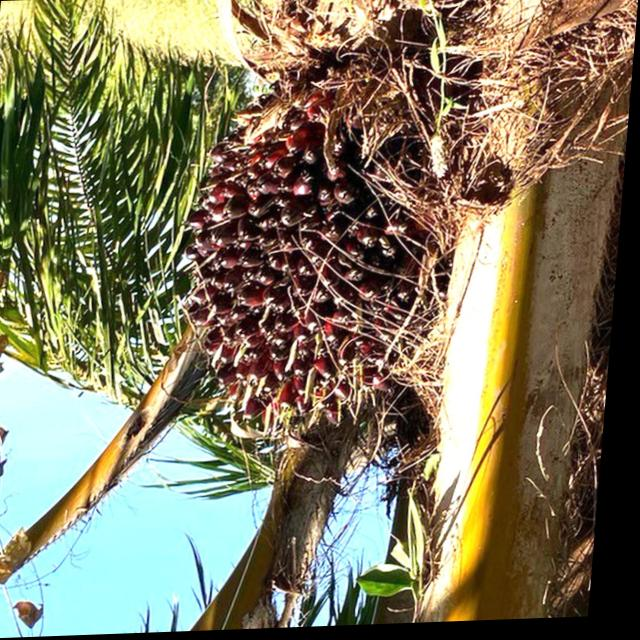ripe: (161, 47, 479, 450)
